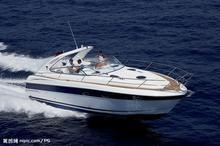yacht: (18, 31, 194, 117)
